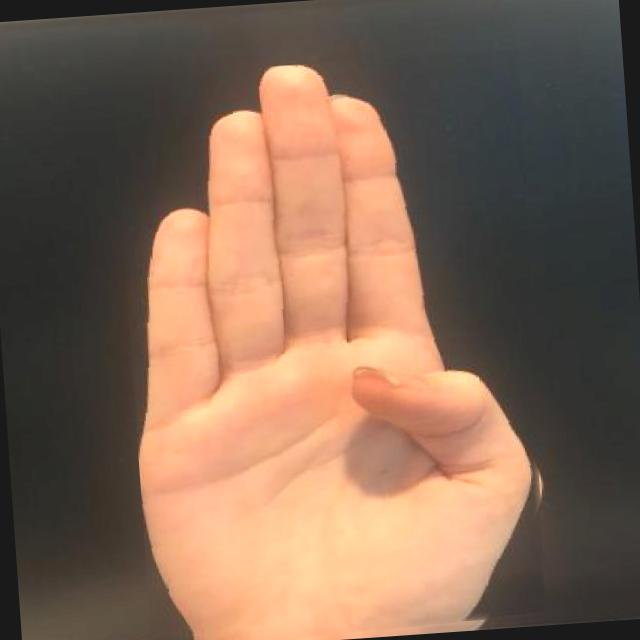B: (111, 48, 558, 640)
